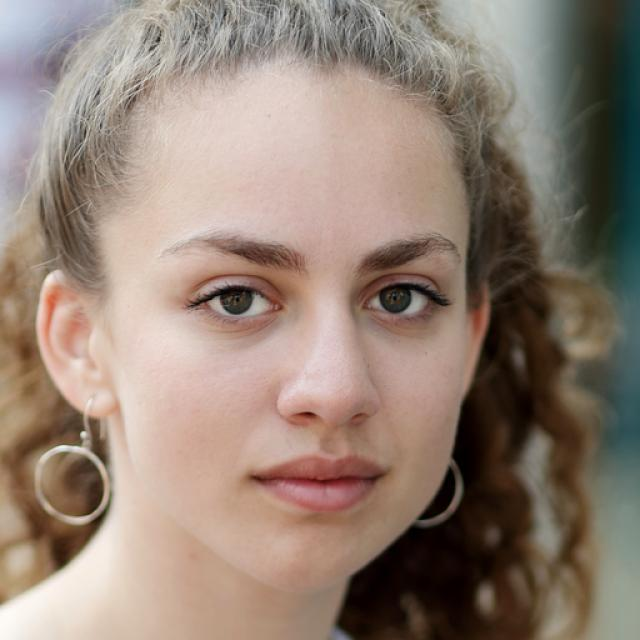neutral: (113, 59, 474, 597)
